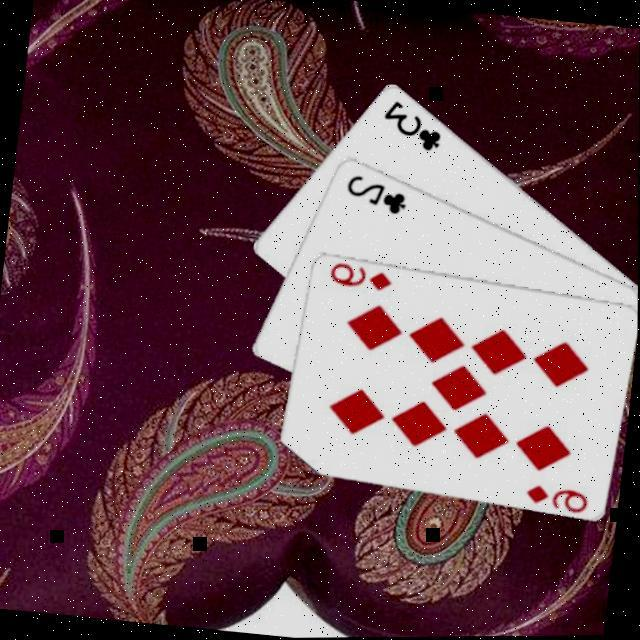2C: (338, 170, 410, 220)
3C: (374, 96, 445, 156)
9D: (322, 260, 393, 296), (519, 480, 590, 516)
